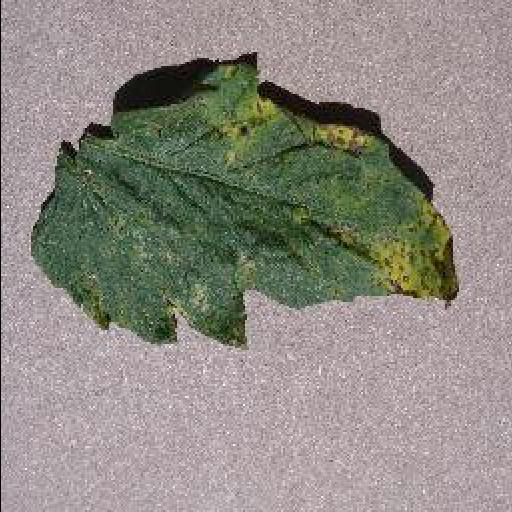disease_tomato: (26, 62, 456, 350)
